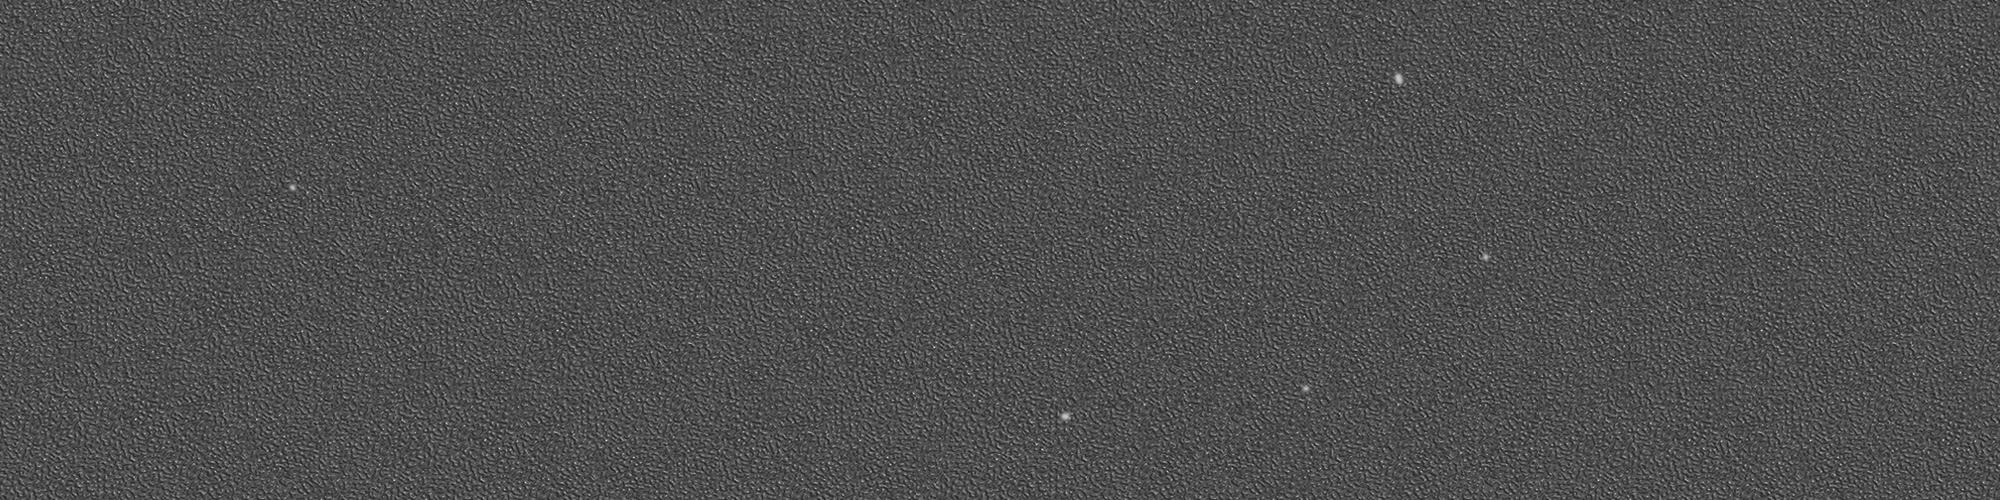Particles: (1392, 68, 1407, 91), (1055, 408, 1071, 425), (1296, 383, 1316, 395), (284, 182, 300, 196), (1480, 250, 1492, 267)
